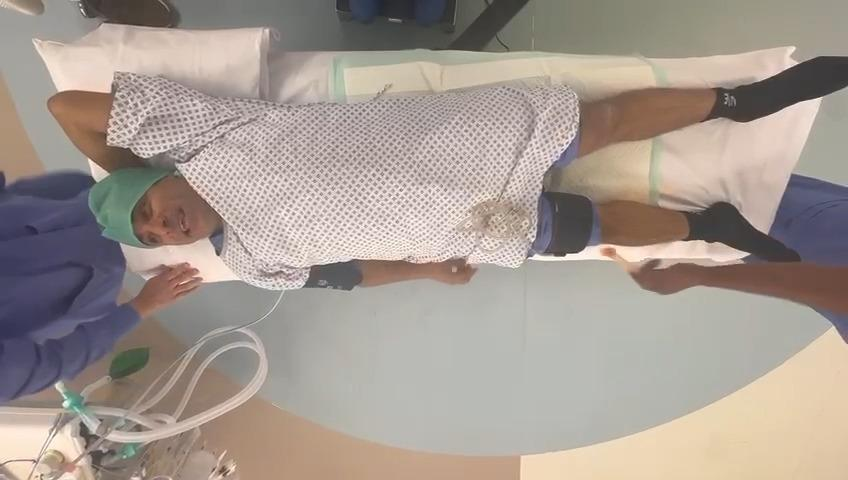patient: (50, 59, 848, 289)
prepstick: (600, 247, 641, 273)
tourniquet: (542, 192, 593, 256)
